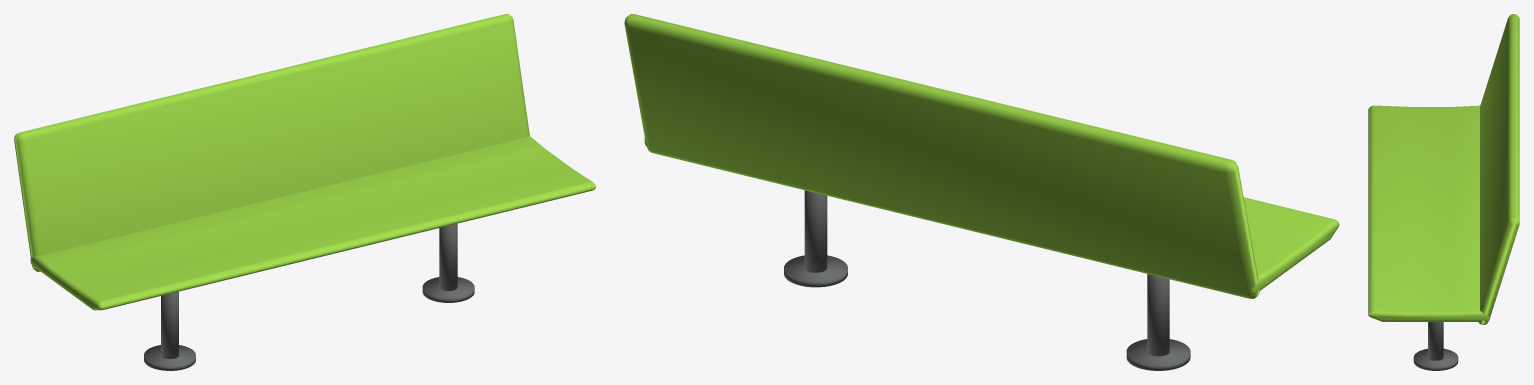
File: train-bench.glb
The picture shows the model from 3 angles, left to right: view 1: azimuth 30°, elevation 25°; view 2: azimuth 150°, elevation 25°; view 3: azimuth 270°, elevation 25°; orthographic projection. The views are drawn at different scales.
Visible parts, largest first — view 1: train-bench; view 2: train-bench; view 3: train-bench.
Part boxes in pixels (<box>): train-bench: <box>14,14,595,370</box>; train-bench: <box>624,14,1339,370</box>; train-bench: <box>1368,14,1519,370</box>.
Bounding box in the file's own units: 2.2 × 0.9296 × 0.6781.
